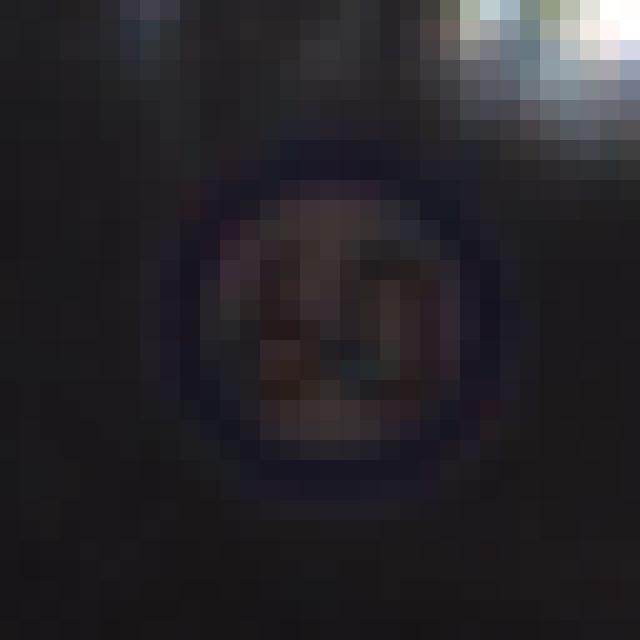SPEED-LIMIT-60: (124, 132, 511, 511)
